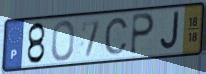7: (80, 19, 100, 58)
8: (26, 21, 47, 65)
C: (103, 17, 129, 56)
J: (158, 10, 180, 52)
O: (50, 19, 76, 63)
P: (129, 12, 156, 56)
